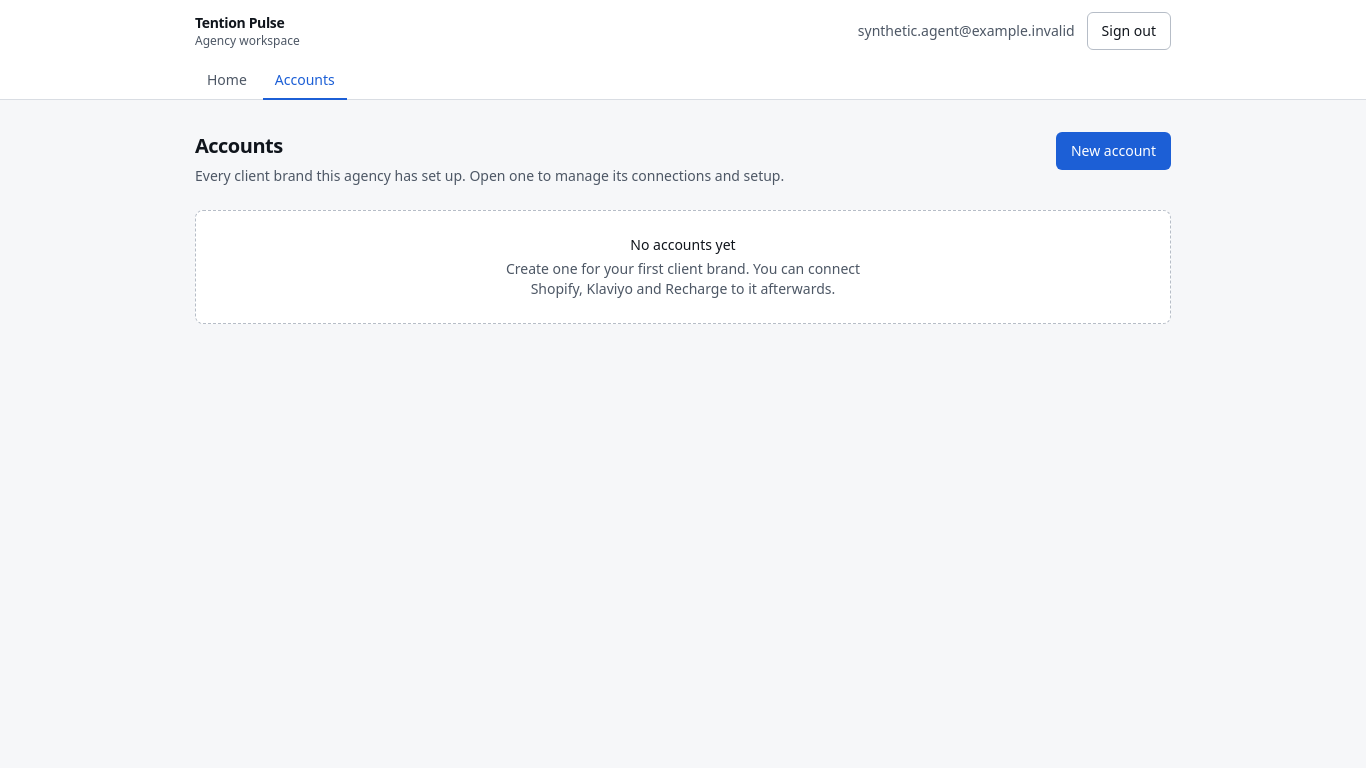
Test case: creating an account › requires a name
Expected: the heading "Accounts" is shown, [195,132,283,159]
Click the button "New account" at (1114,151), box [1056,132,1171,170]
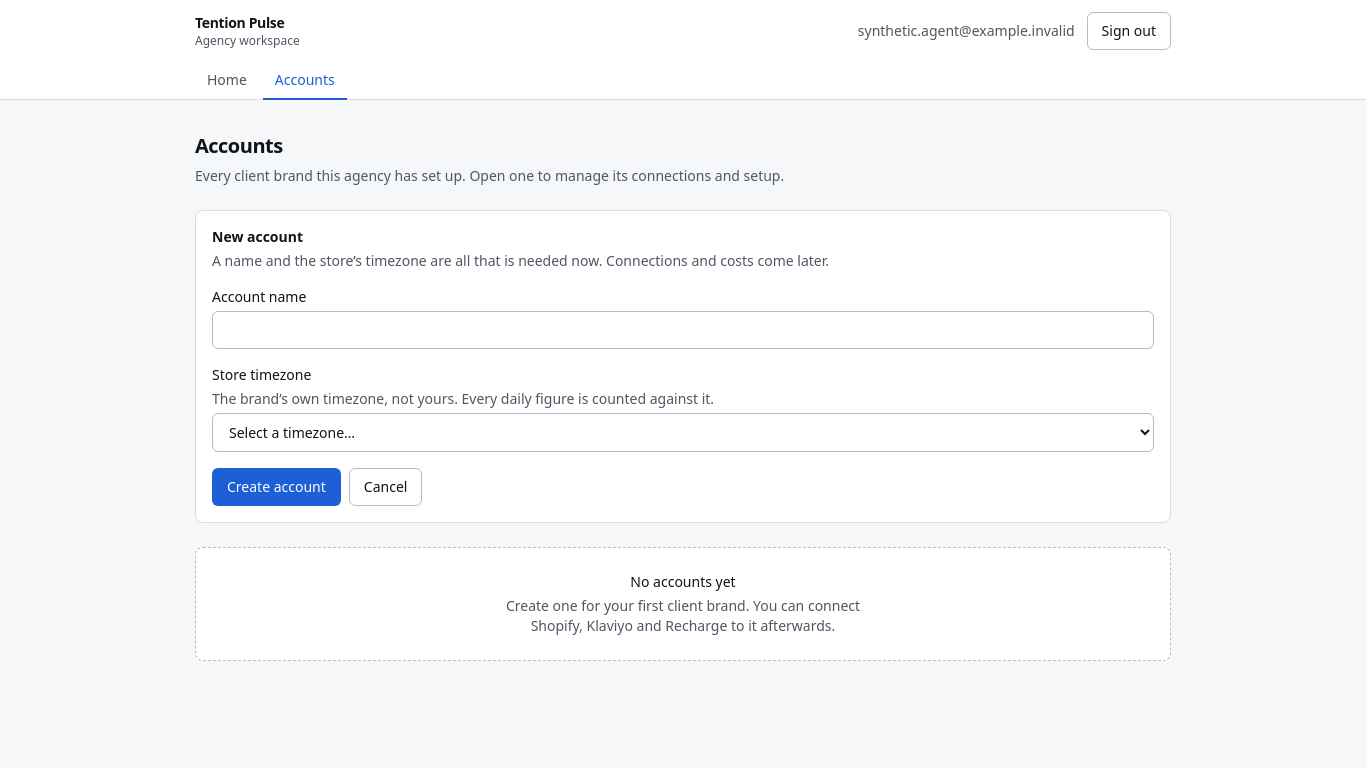
Expected: the heading "New account" is shown, [212,227,303,246]
Select "Europe/London" in the dropdown labelled "Store timezone" at (683,432), box [212,413,1154,452]
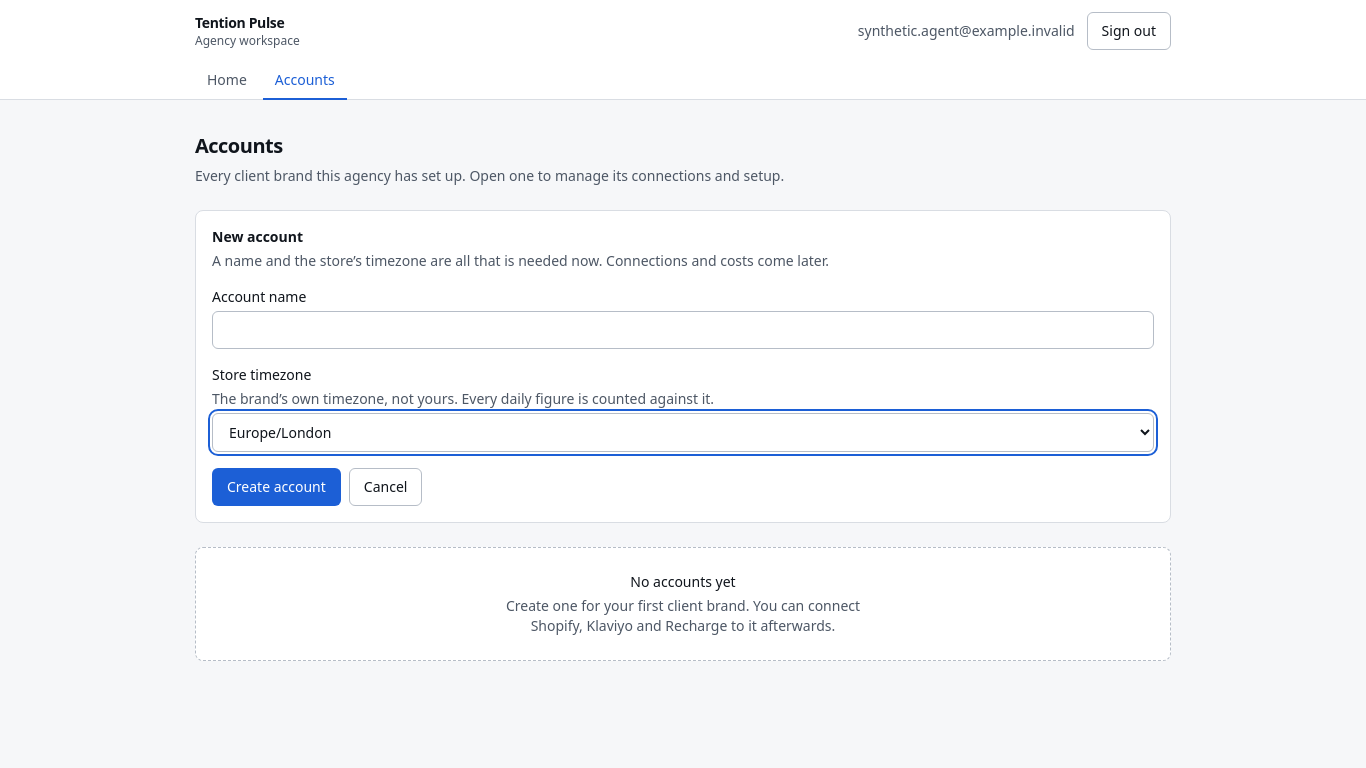
Click the button "Create account" at (276,487), box [212,468,341,506]
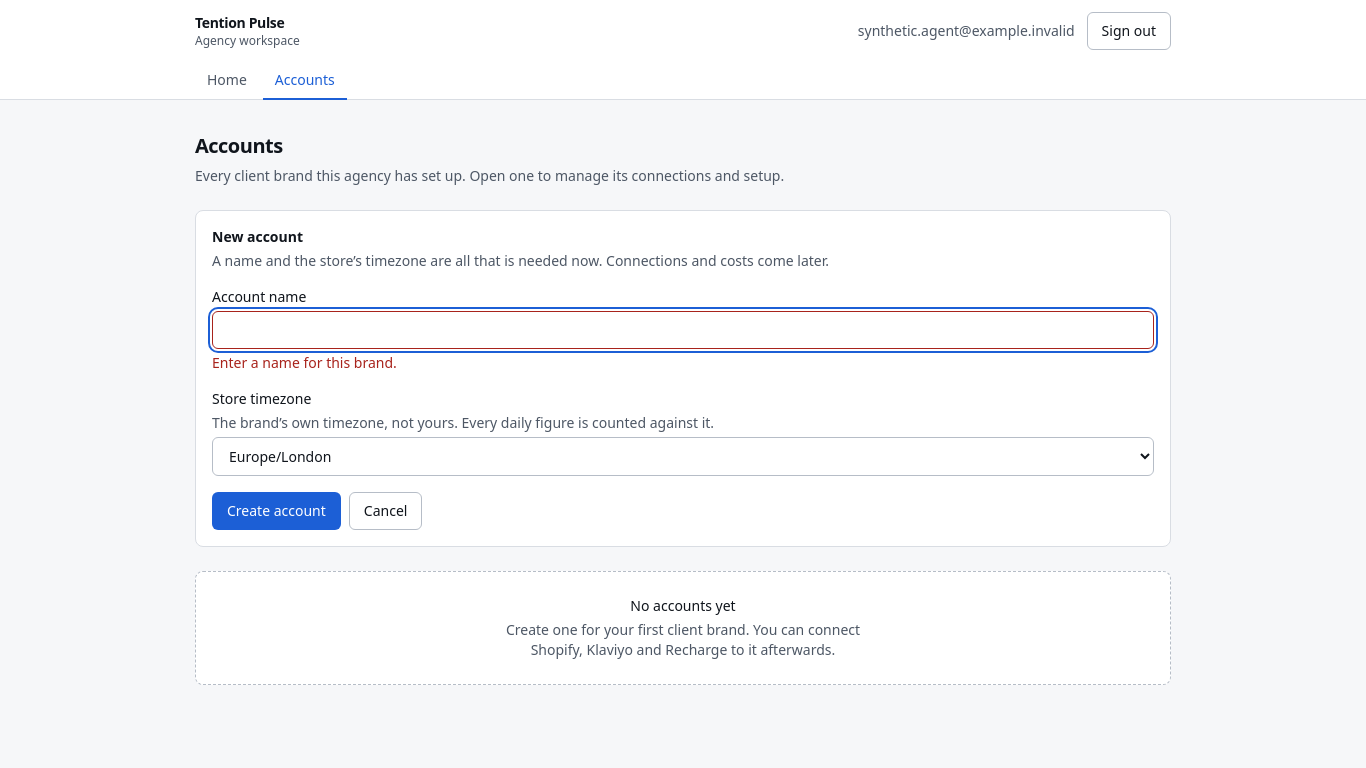
Expected: the text "Enter a name for this brand." is shown, [212,353,397,372]
